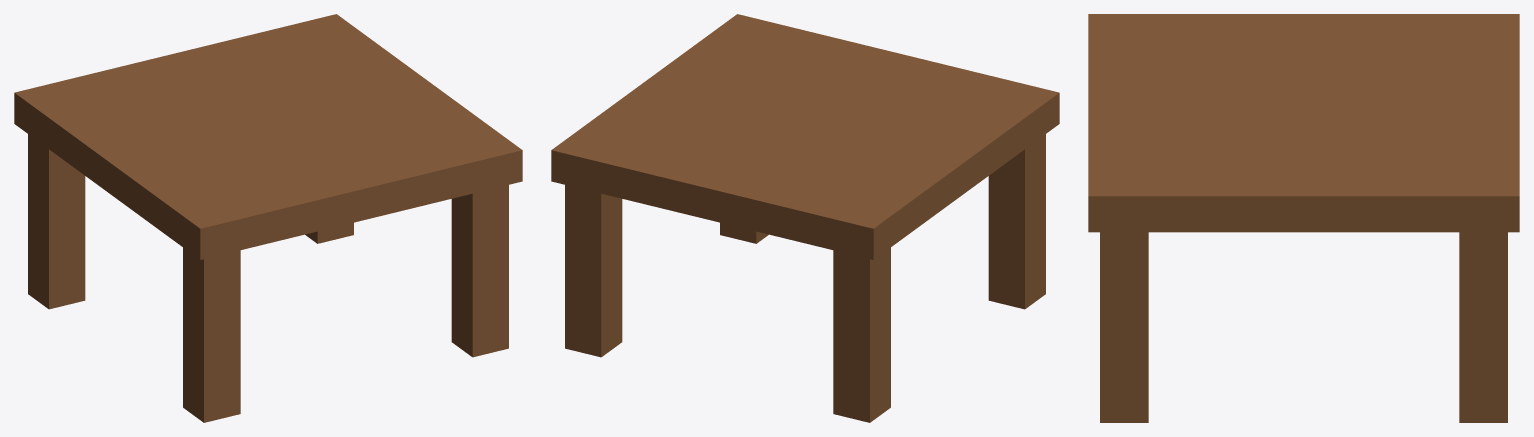
Rendered from SmallTable.fbx.
The picture shows the model from 3 angles, left to right: view 1: azimuth 30°, elevation 25°; view 2: azimuth 150°, elevation 25°; view 3: azimuth 270°, elevation 25°; orthographic projection. The views are drawn at different scales.
Visible parts, largest first — view 1: Cube; view 2: Cube; view 3: Cube.
Boxes of the visible parts, x1=… form: Cube: x1=14, y1=14, x2=522, y2=422; Cube: x1=551, y1=14, x2=1059, y2=422; Cube: x1=1088, y1=14, x2=1519, y2=422.
Bounding box in the file's own units: 200 × 119 × 200.
